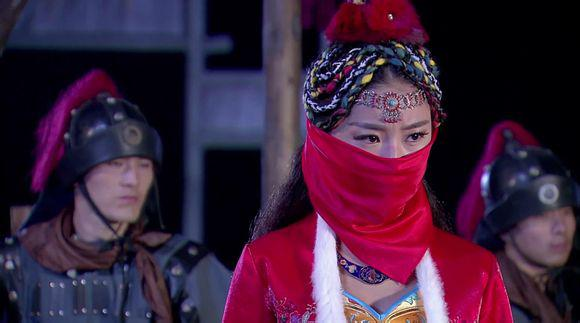NONE: (90, 154, 155, 223), (519, 206, 577, 265)
OK: (342, 113, 429, 200)
